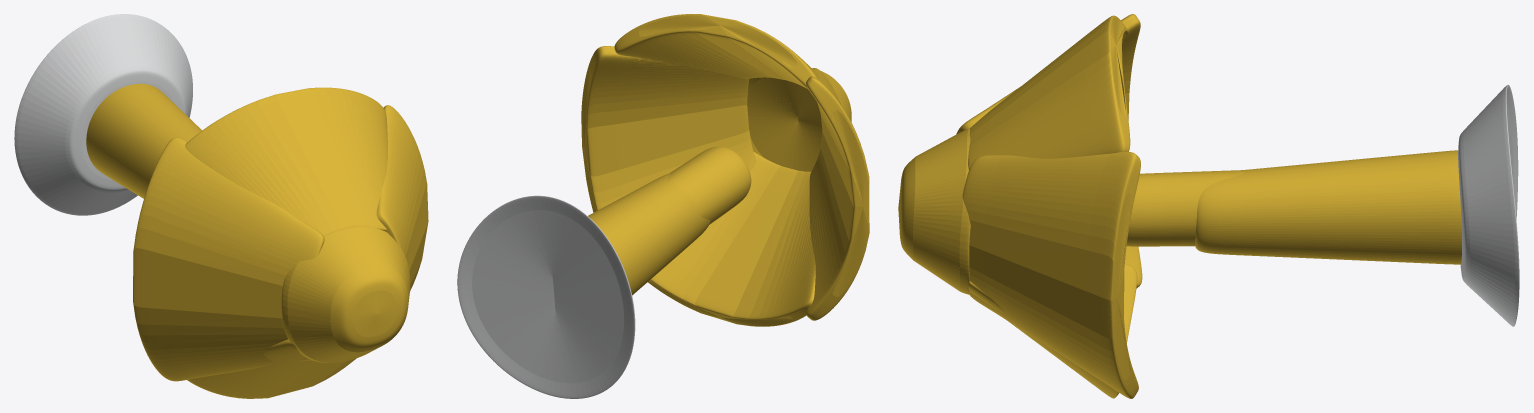
Rendered from 16_lamp_with_rectangular_base.glb.
The picture shows the model from 3 angles, left to right: view 1: azimuth 30°, elevation 25°; view 2: azimuth 150°, elevation 25°; view 3: azimuth 270°, elevation 25°; orthographic projection. The views are drawn at different scales.
Parts seen in each view (by area): view 1: superquadric_0, superquadric_2, superquadric_4, superquadric_6, superquadric_5, superquadric_1, superquadric_3; view 2: superquadric_4, superquadric_1, superquadric_3, superquadric_0, superquadric_2, superquadric_5, superquadric_6, superquadric_7; view 3: superquadric_1, superquadric_5, superquadric_2, superquadric_4, superquadric_6, superquadric_7, superquadric_3, superquadric_0.
Part boxes in pixels (x1,y1,x2,y2): superquadric_0: (133, 137, 324, 381); superquadric_2: (185, 87, 387, 235); superquadric_4: (14, 14, 192, 215); superquadric_6: (281, 225, 410, 362); superquadric_5: (86, 83, 201, 198); superquadric_1: (376, 105, 428, 290); superquadric_3: (187, 339, 356, 398); superquadric_4: (457, 195, 635, 398); superquadric_1: (581, 46, 755, 212); superquadric_3: (648, 151, 815, 326); superquadric_0: (806, 68, 869, 320); superquadric_2: (614, 14, 819, 89); superquadric_5: (588, 173, 710, 295); superquadric_6: (747, 71, 851, 171); superquadric_7: (667, 146, 751, 224); superquadric_1: (962, 151, 1140, 398); superquadric_5: (1195, 150, 1461, 264); superquadric_2: (968, 15, 1130, 170); superquadric_4: (1458, 84, 1519, 326); superquadric_6: (898, 128, 970, 294); superquadric_7: (1126, 170, 1245, 246); superquadric_3: (968, 264, 1137, 398); superquadric_0: (956, 14, 1142, 288).
Size of the model in its own units: 0.6135 by 0.6092 by 1.
